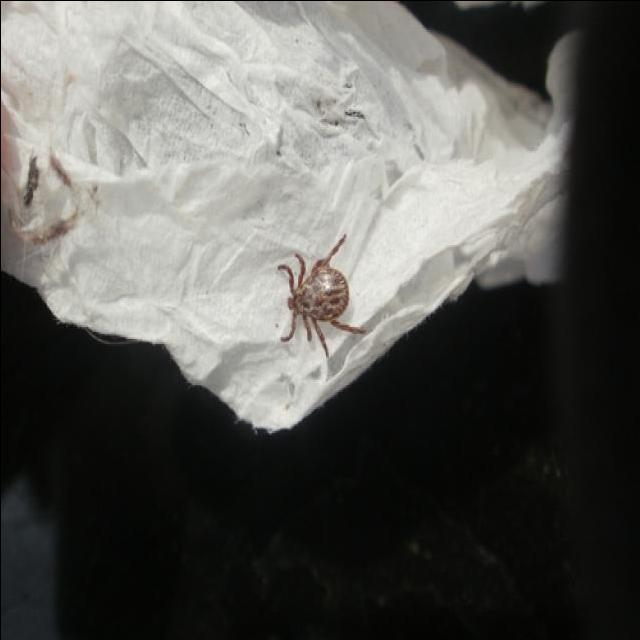Dermacentor Reticulatus-M: (275, 234, 366, 358)
